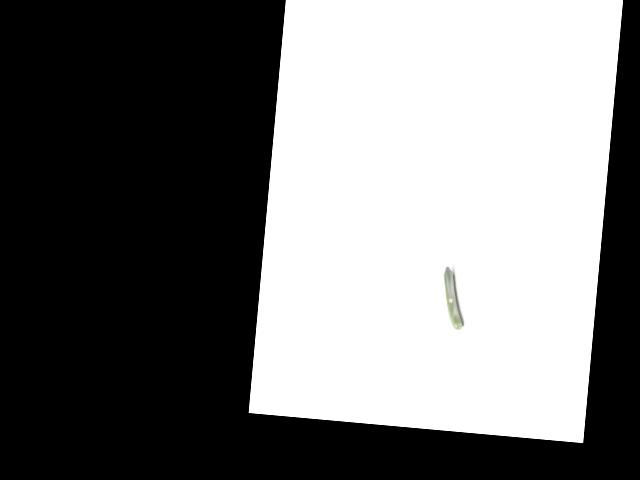cucumber: (439, 266, 468, 330)
